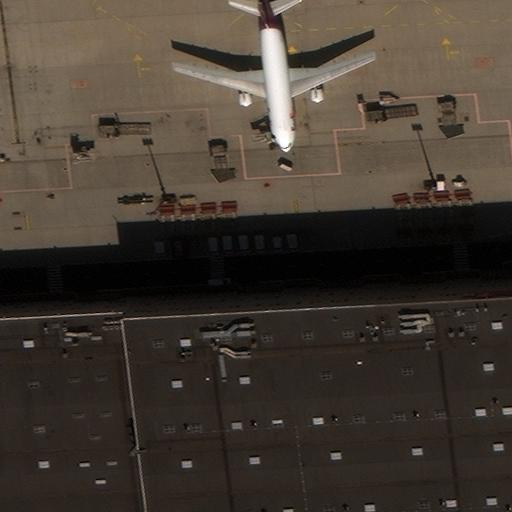Large Civil Transport: (172, 0, 376, 151)
